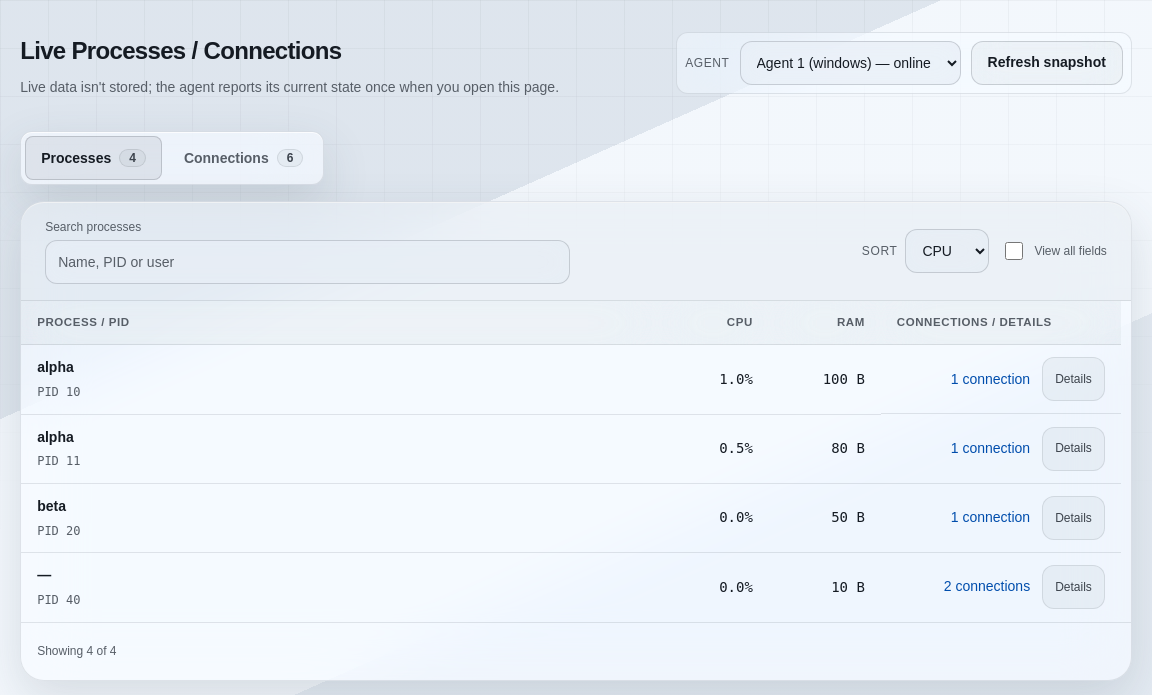
Test: Processes network-connection filtering › keeps connections with a remote address ahead of listening sockets
The image size is (1152, 695).
Click the tab "Connections 6".
click(244, 158)  # box [168,136,319,180]
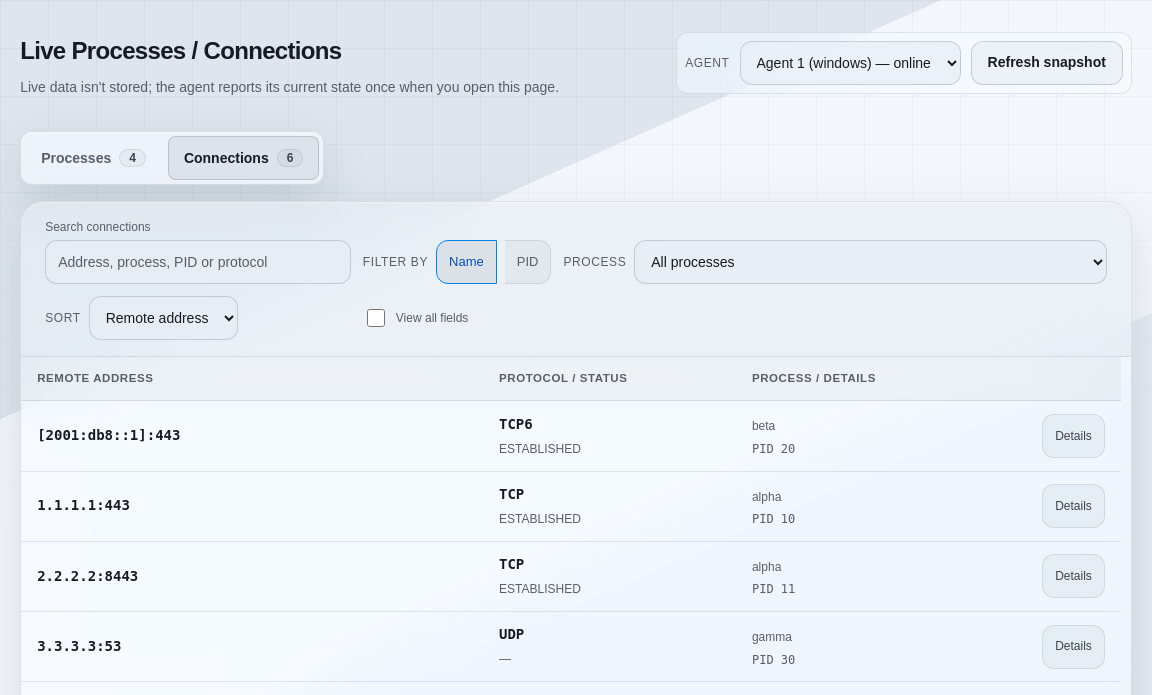
Expected: the button with class "detail-toggle" in the row of "PID 20" reads "Details", [1042,414,1105,458]
Expected: the number of rows with class "summary-row" is 6
